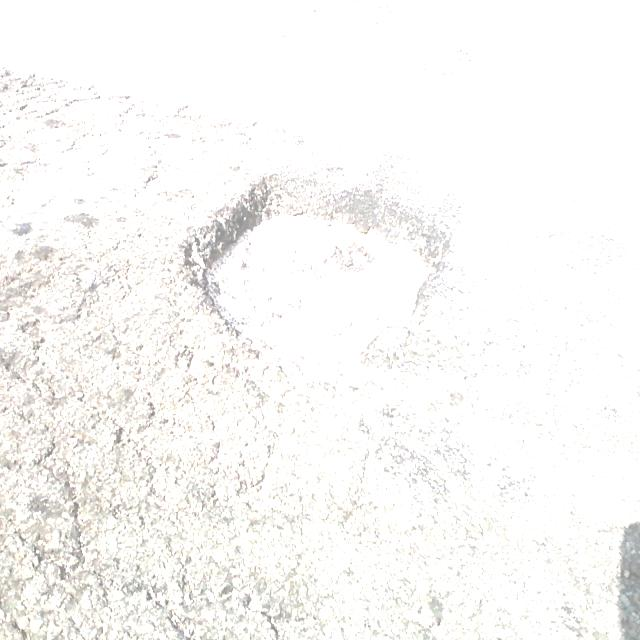Pothole: (149, 160, 478, 413)
